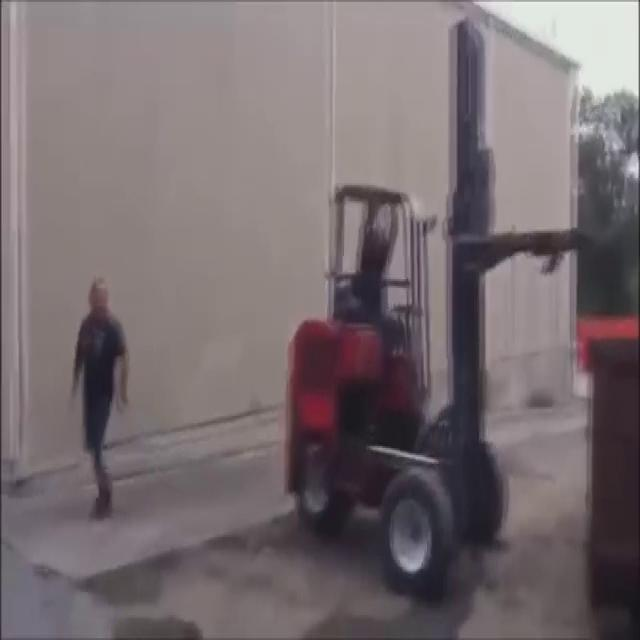Chariot elevateur: (283, 147, 579, 588)
